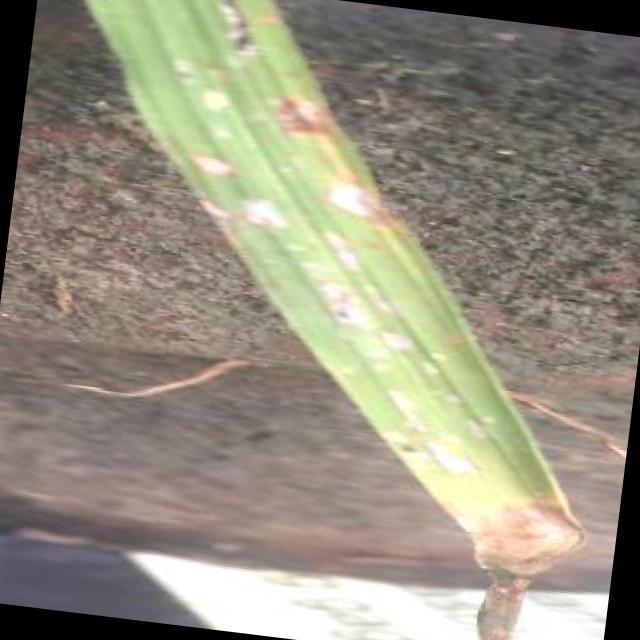Rice_Blast: (253, 68, 339, 154), (319, 162, 418, 232), (222, 178, 317, 250), (167, 126, 236, 191)
